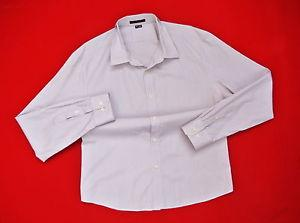F_shirt: (18, 13, 274, 209)
